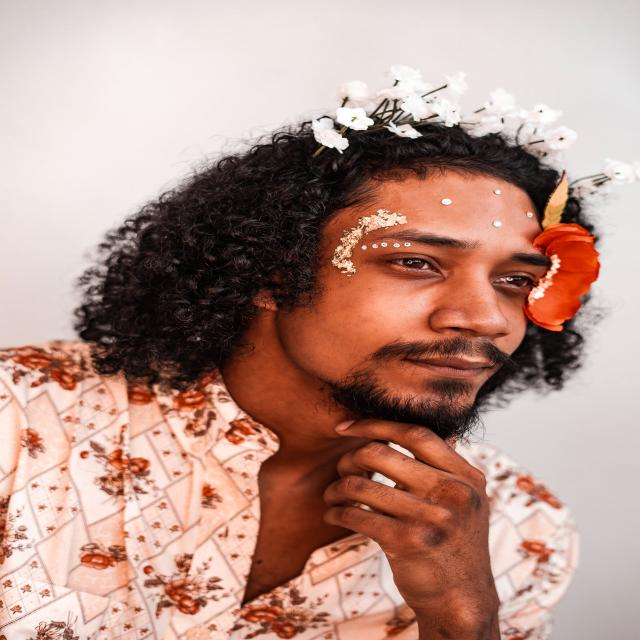adult: (0, 89, 639, 640)
